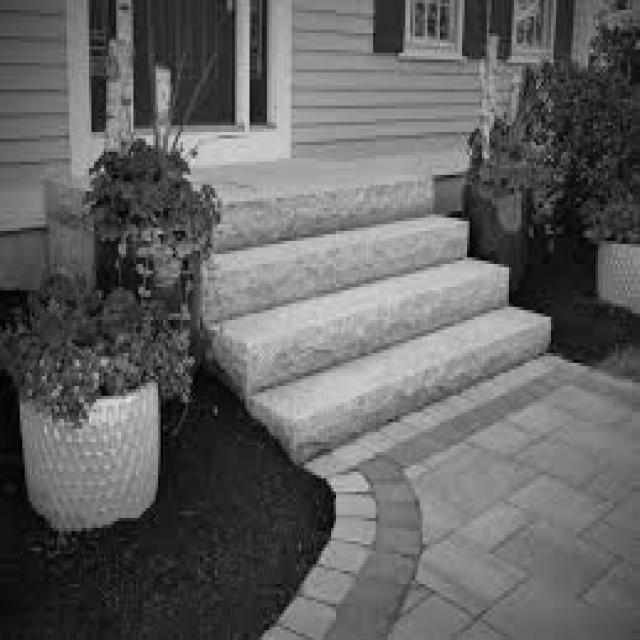stair: (204, 179, 550, 461)
